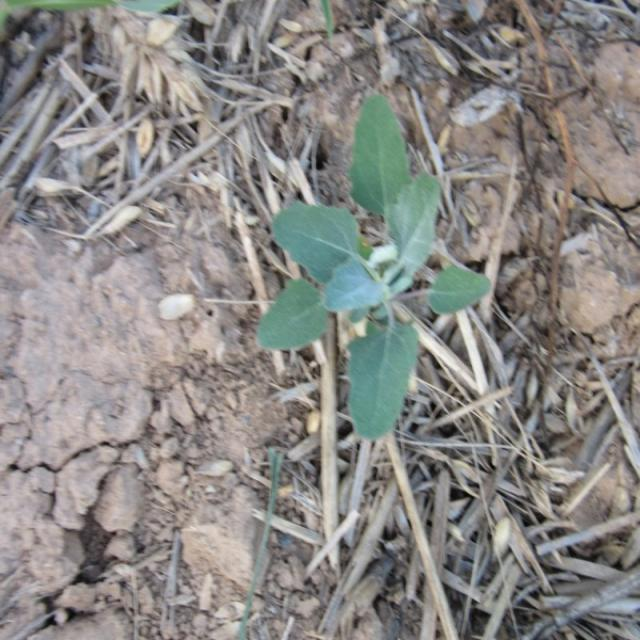ca: (263, 96, 488, 440)
